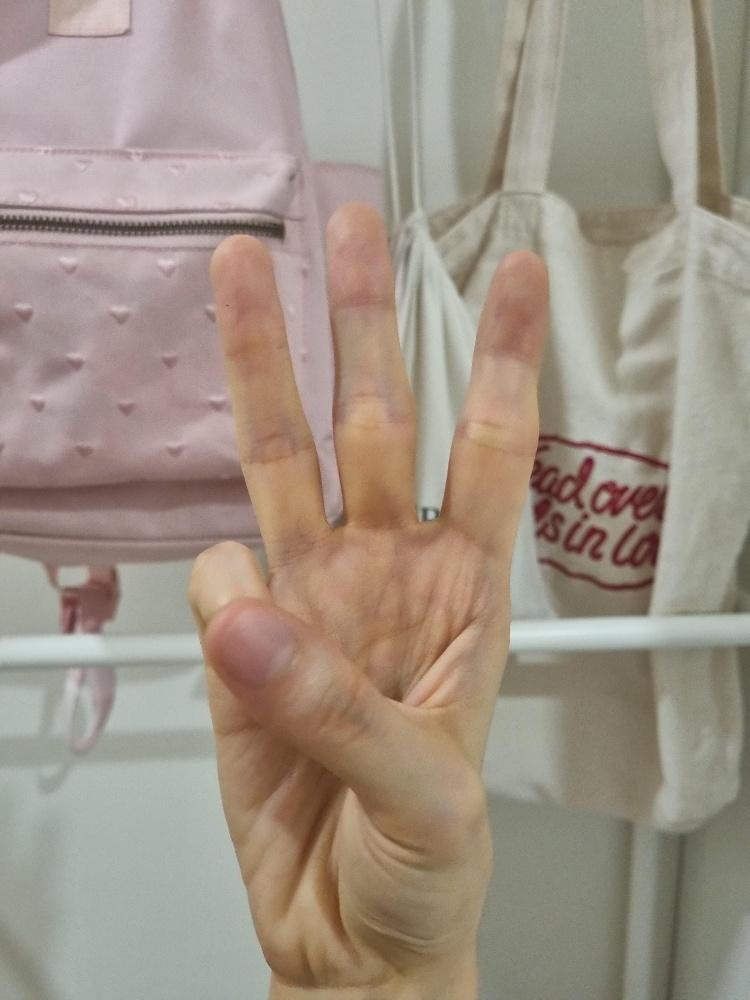w: (186, 200, 551, 975)
